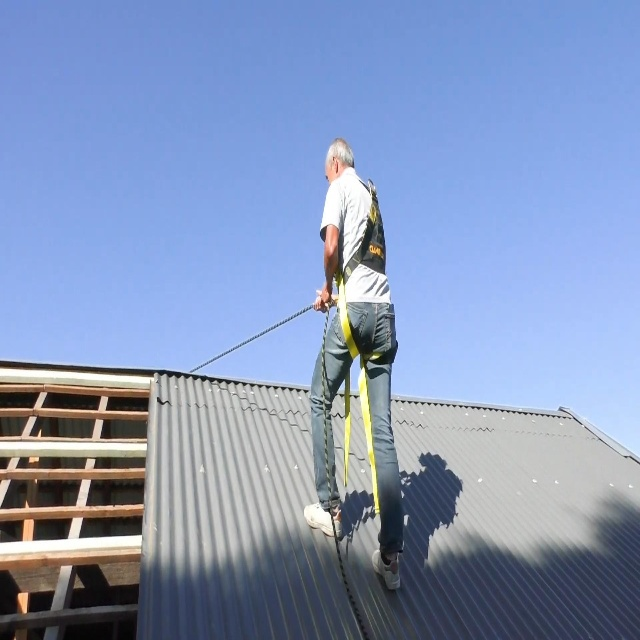Arnes_seguridad: (334, 171, 400, 373)
